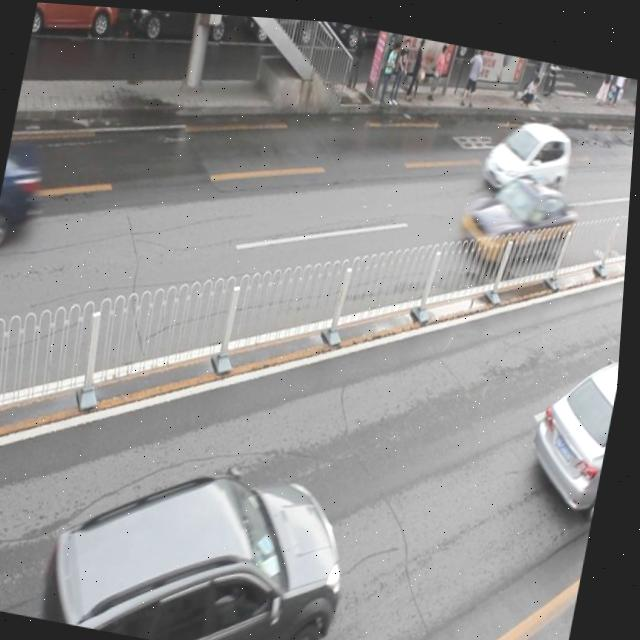car: (45, 435, 365, 640), (529, 338, 624, 501), (456, 157, 584, 271), (480, 104, 576, 196), (121, 6, 235, 49), (0, 139, 48, 233), (31, 2, 120, 43), (321, 17, 402, 53), (238, 13, 319, 43)
